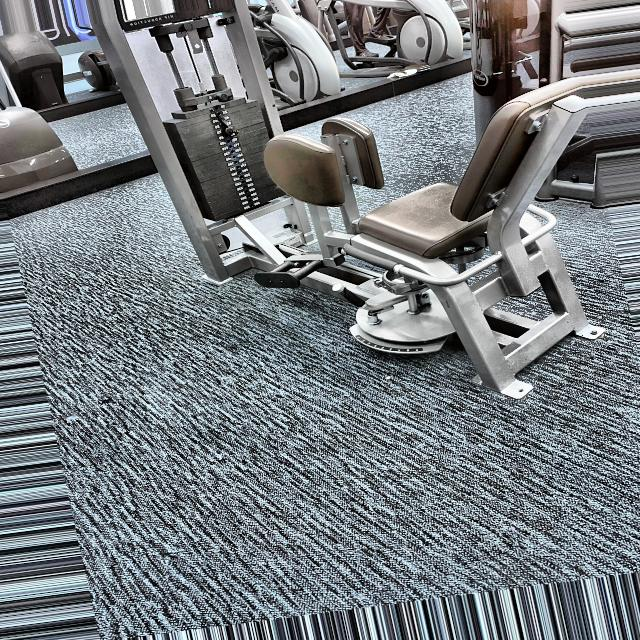hip_adduction_machine: (260, 92, 441, 350), (127, 12, 176, 30)
